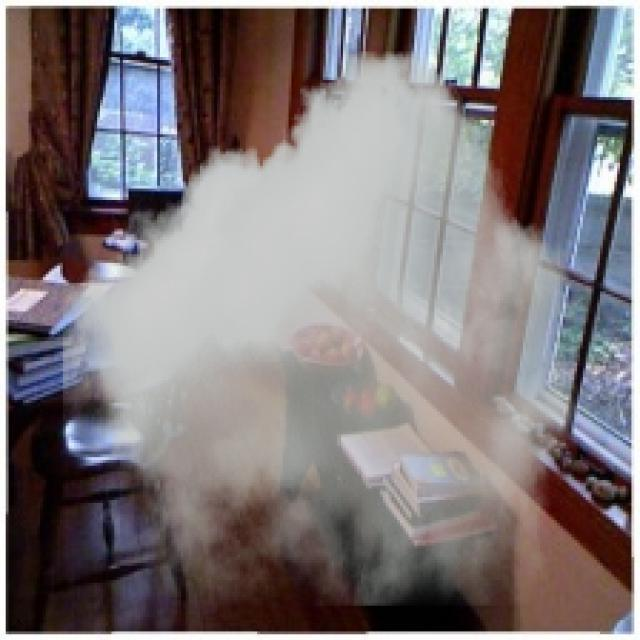Smoke: (62, 51, 578, 606)
